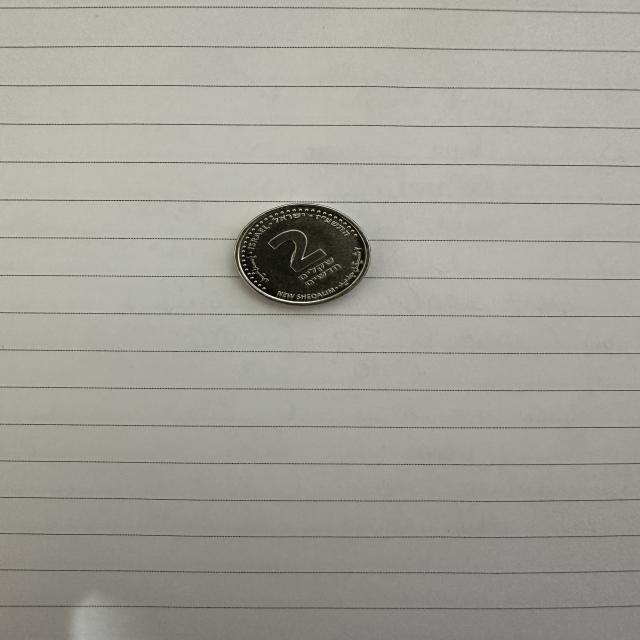2-shekel: (234, 202, 370, 308)
